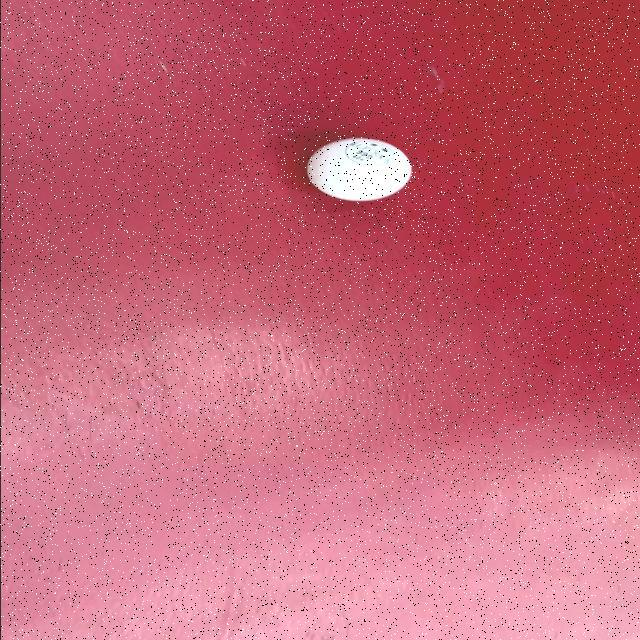ping-pong-ball: (301, 134, 415, 202)
